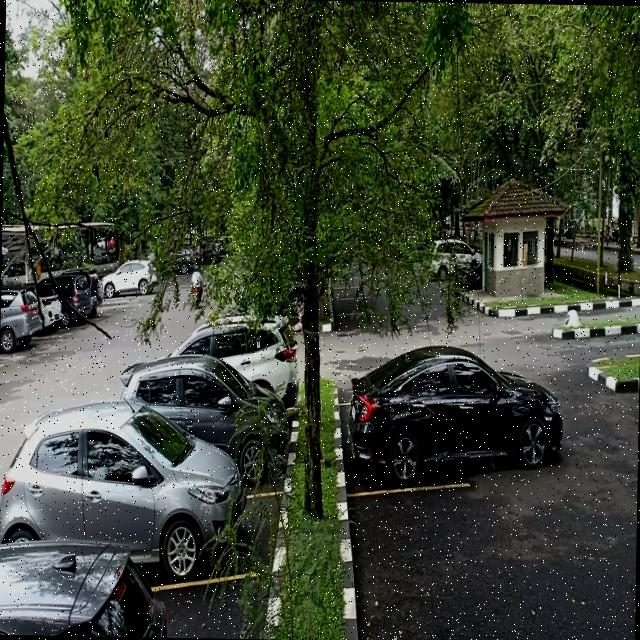occupied: (338, 390, 566, 492), (114, 465, 277, 590), (200, 378, 287, 502)
